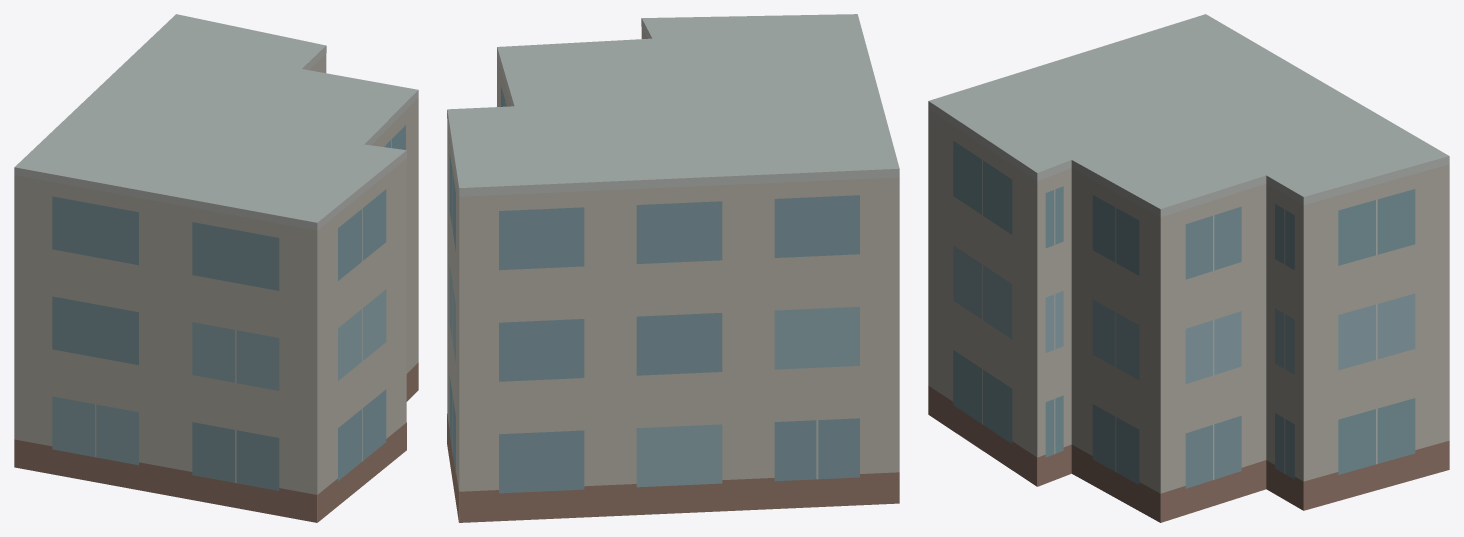
The model's file is survey-upis-32729613.glb.
3 renders of one model, left to right at view 1: azimuth 30°, elevation 25°; view 2: azimuth 150°, elevation 25°; view 3: azimuth 270°, elevation 25°, orthographic. The views are drawn at different scales.
Parts seen in each view (by area): view 1: survey-upis-32729613.tmp; view 2: survey-upis-32729613.tmp; view 3: survey-upis-32729613.tmp.
Boxes of the visible parts, x1,y1,x2,y2 form: survey-upis-32729613.tmp: (14, 14, 418, 522); survey-upis-32729613.tmp: (447, 14, 899, 522); survey-upis-32729613.tmp: (928, 14, 1449, 522).
Bounding box in the file's own units: 12.55 × 9.4 × 14.16.
